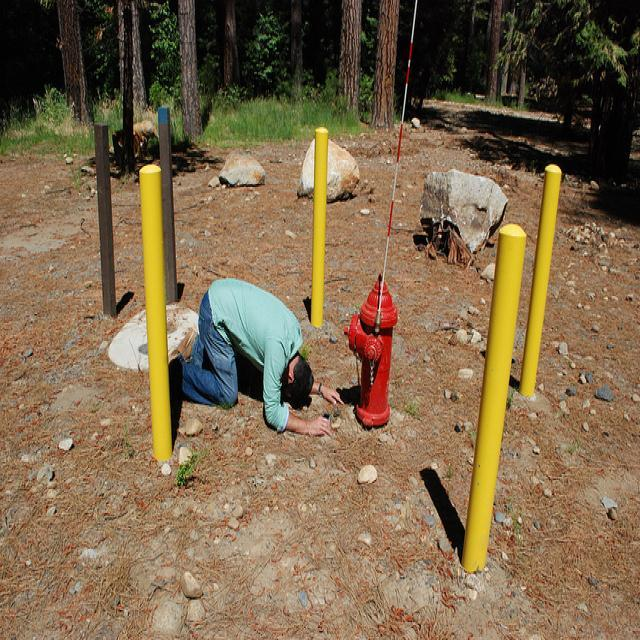fire_hydrant: (337, 269, 398, 422)
